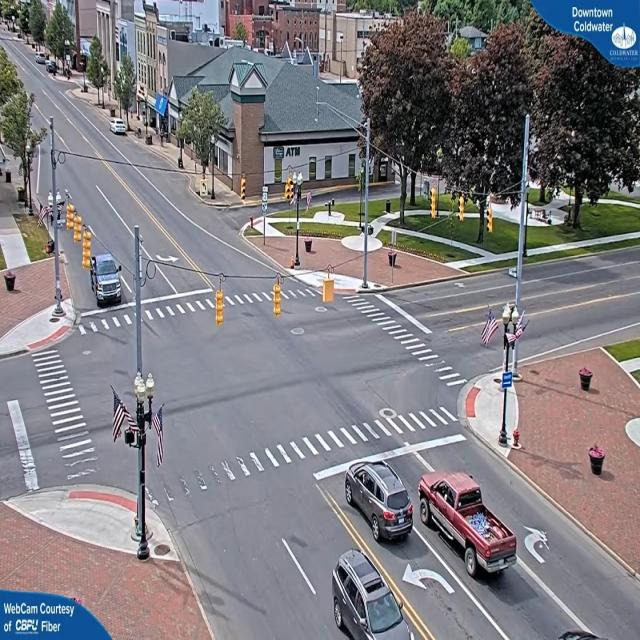car: (418, 474, 515, 583), (331, 551, 412, 639), (346, 459, 414, 543), (93, 254, 125, 306), (110, 119, 129, 136)
